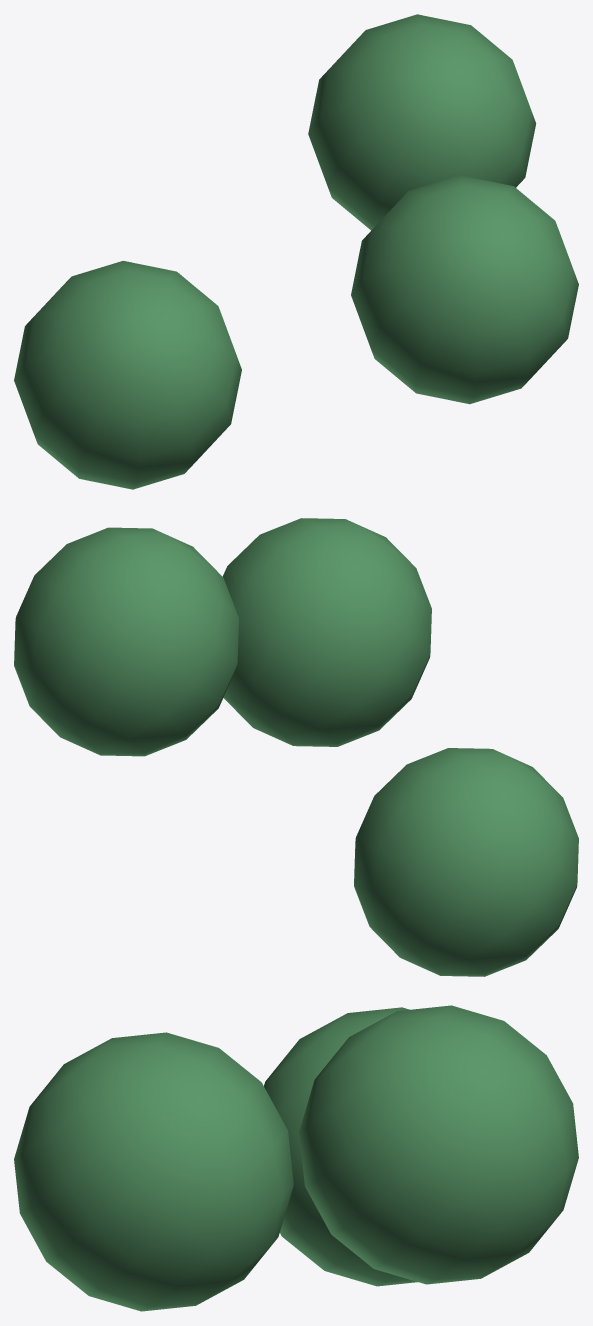
The picture shows the model from 3 angles, top to bottom: view 1: azimuth 30°, elevation 25°; view 2: azimuth 150°, elevation 25°; view 3: azimuth 270°, elevation 25°; orthographic projection. The views are drawn at different scales.
Visible parts, largest first — view 1: 主动脉下淋巴结; view 2: 主动脉下淋巴结; view 3: 主动脉下淋巴结.
Boxes of the visible parts, x1,y1,x2,y2 form: 主动脉下淋巴结: [14, 14, 578, 489]; 主动脉下淋巴结: [14, 518, 578, 976]; 主动脉下淋巴结: [14, 1005, 578, 1311].
Bounding box in the file's own units: 0.0098 × 0.00669 × 0.0077.
